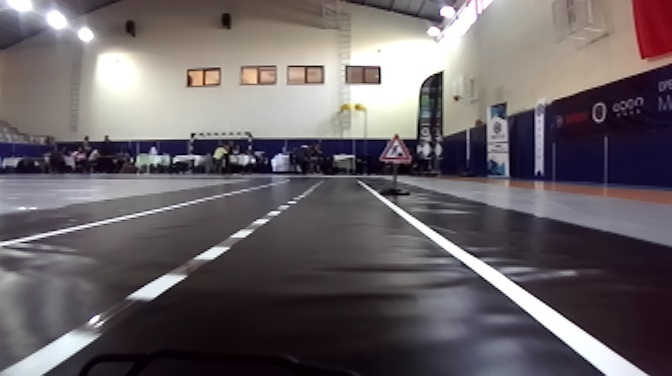yol_yapimi: (378, 130, 417, 163)
